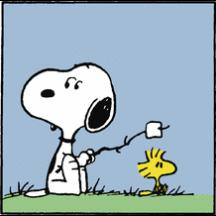snoopy: (20, 59, 118, 199)
